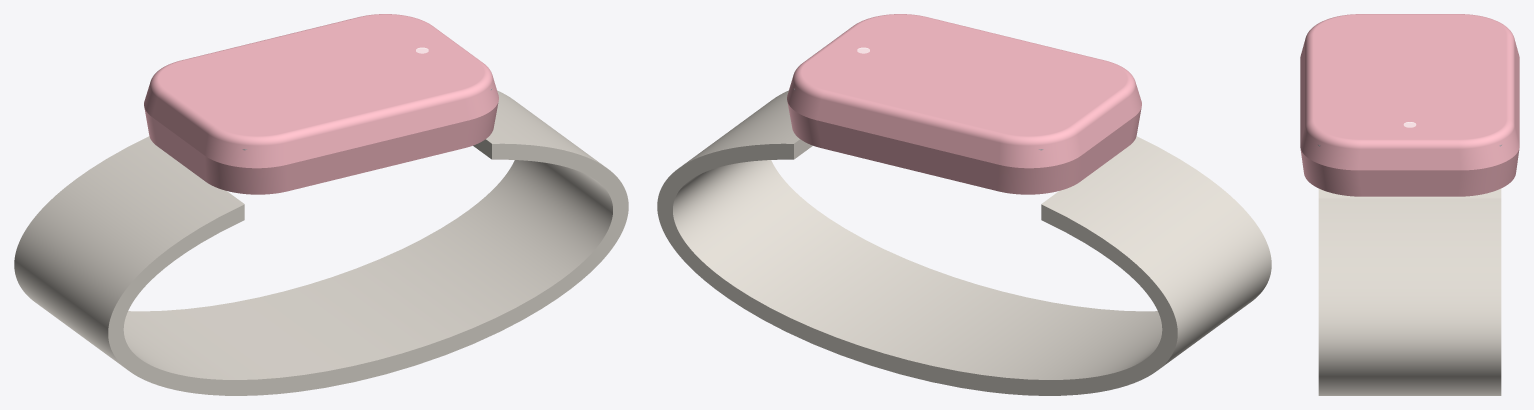
The model's file is anatomy_v4.glb.
3 renders of one model, left to right at view 1: azimuth 30°, elevation 25°; view 2: azimuth 150°, elevation 25°; view 3: azimuth 270°, elevation 25°, orthographic. The views are drawn at different scales.
Visible parts, largest first — view 1: fabric.1, body.2, body.1; view 2: fabric.1, body.2, body.1; view 3: fabric.1, body.2, body.1.
Boxes of the visible parts, x1,y1,x2,y2 form: fabric.1: (14, 90, 628, 395); body.2: (144, 14, 498, 168); body.1: (144, 103, 498, 194); fabric.1: (657, 90, 1271, 395); body.2: (787, 14, 1141, 168); body.1: (787, 103, 1141, 194); fabric.1: (1318, 188, 1501, 395); body.2: (1300, 14, 1519, 170); body.1: (1300, 149, 1519, 196).
Bounding box in the file's own units: 0.08 × 0.0396 × 0.03.
